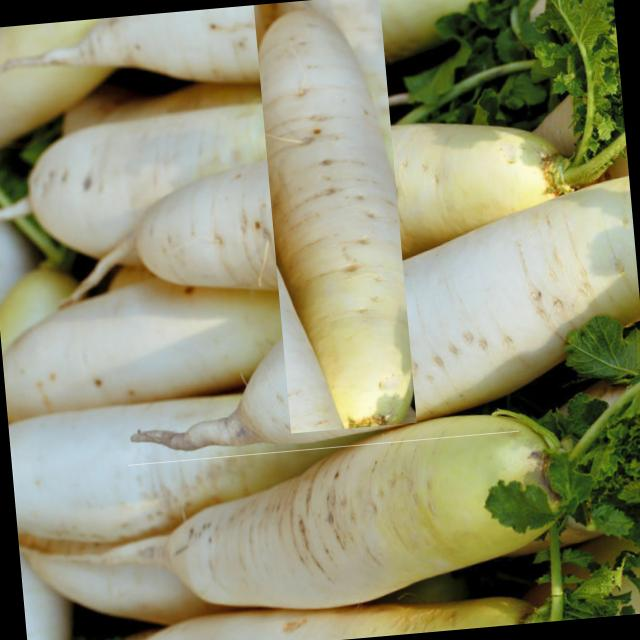radish: (180, 52, 488, 362), (128, 430, 532, 611)
